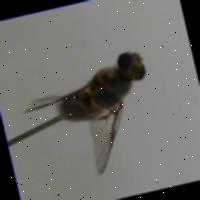Oriental-fruit-fly: (20, 42, 170, 182)
